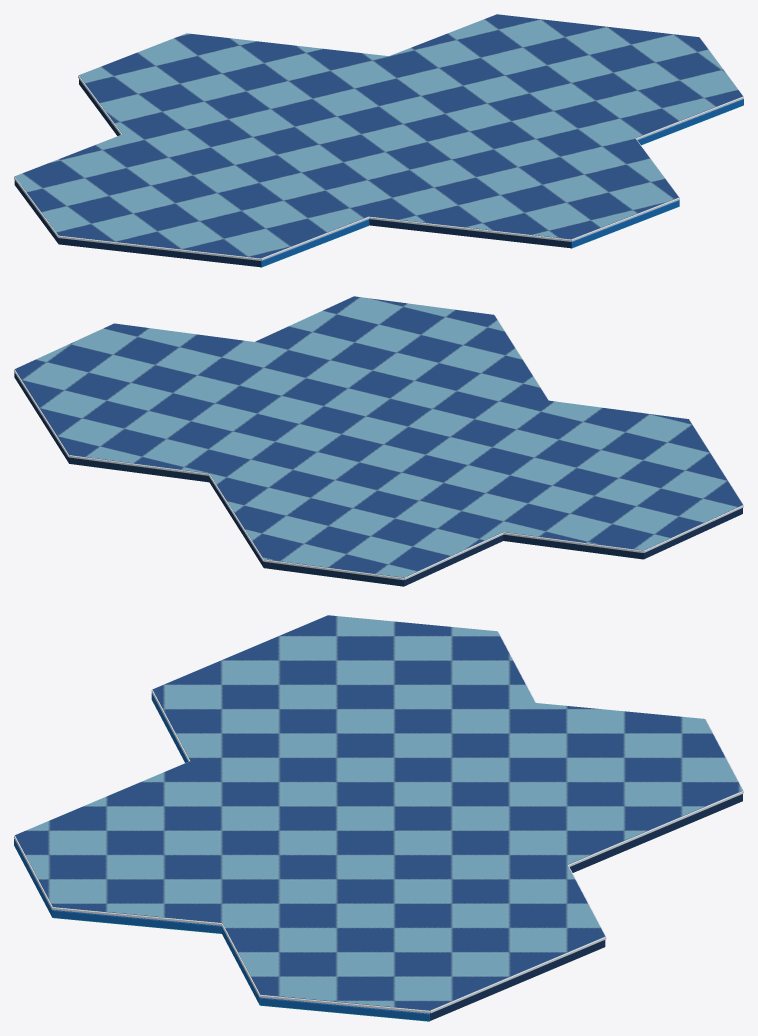
File: field_cm28_01.glb
3 views of the same model, one above another, from view 1: azimuth 30°, elevation 25°; view 2: azimuth 150°, elevation 25°; view 3: azimuth 270°, elevation 25° (orthographic). The views are drawn at different scales.
Visible parts, largest first — view 1: field_cm28_01-refined; view 2: field_cm28_01-refined; view 3: field_cm28_01-refined.
Part boxes in pixels (box(x1,y1,x2,y2)): field_cm28_01-refined: box(14, 14, 743, 267); field_cm28_01-refined: box(14, 296, 743, 586); field_cm28_01-refined: box(14, 615, 743, 1021).
Bounding box in the file's own units: 19.17 × 0.248 × 14.93.
1 material, 1 textured.
